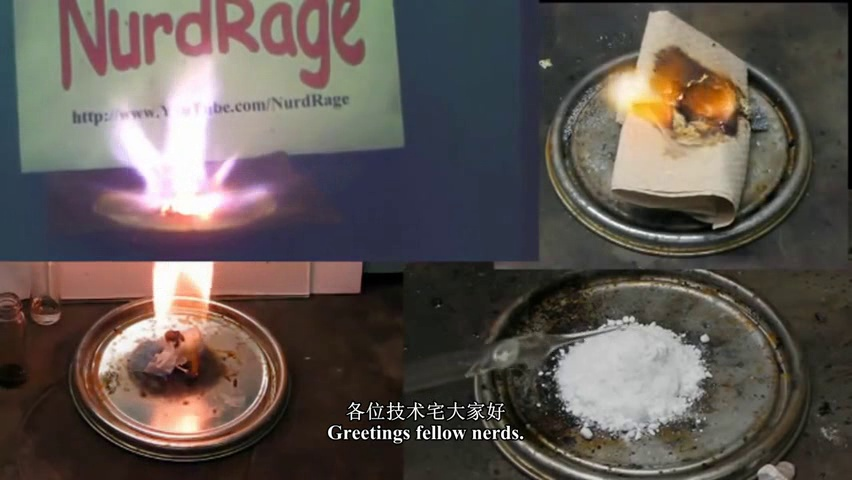fire: (97, 44, 254, 214), (131, 243, 221, 382), (599, 56, 738, 139)
